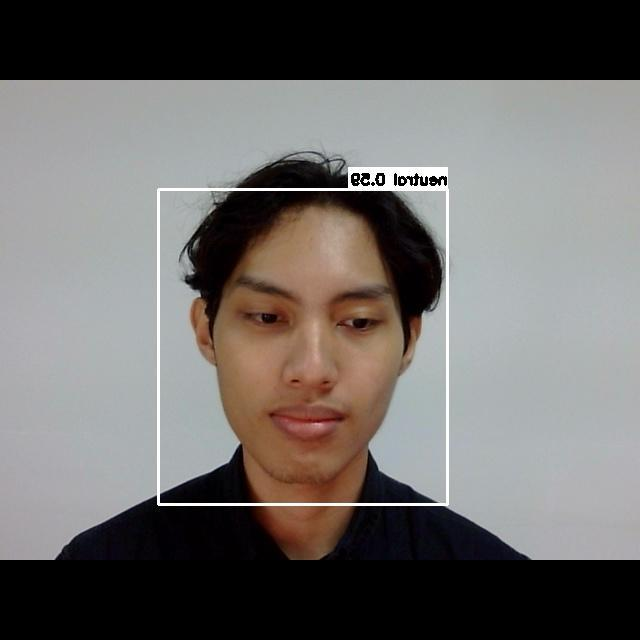Natural: (218, 261, 426, 491)
